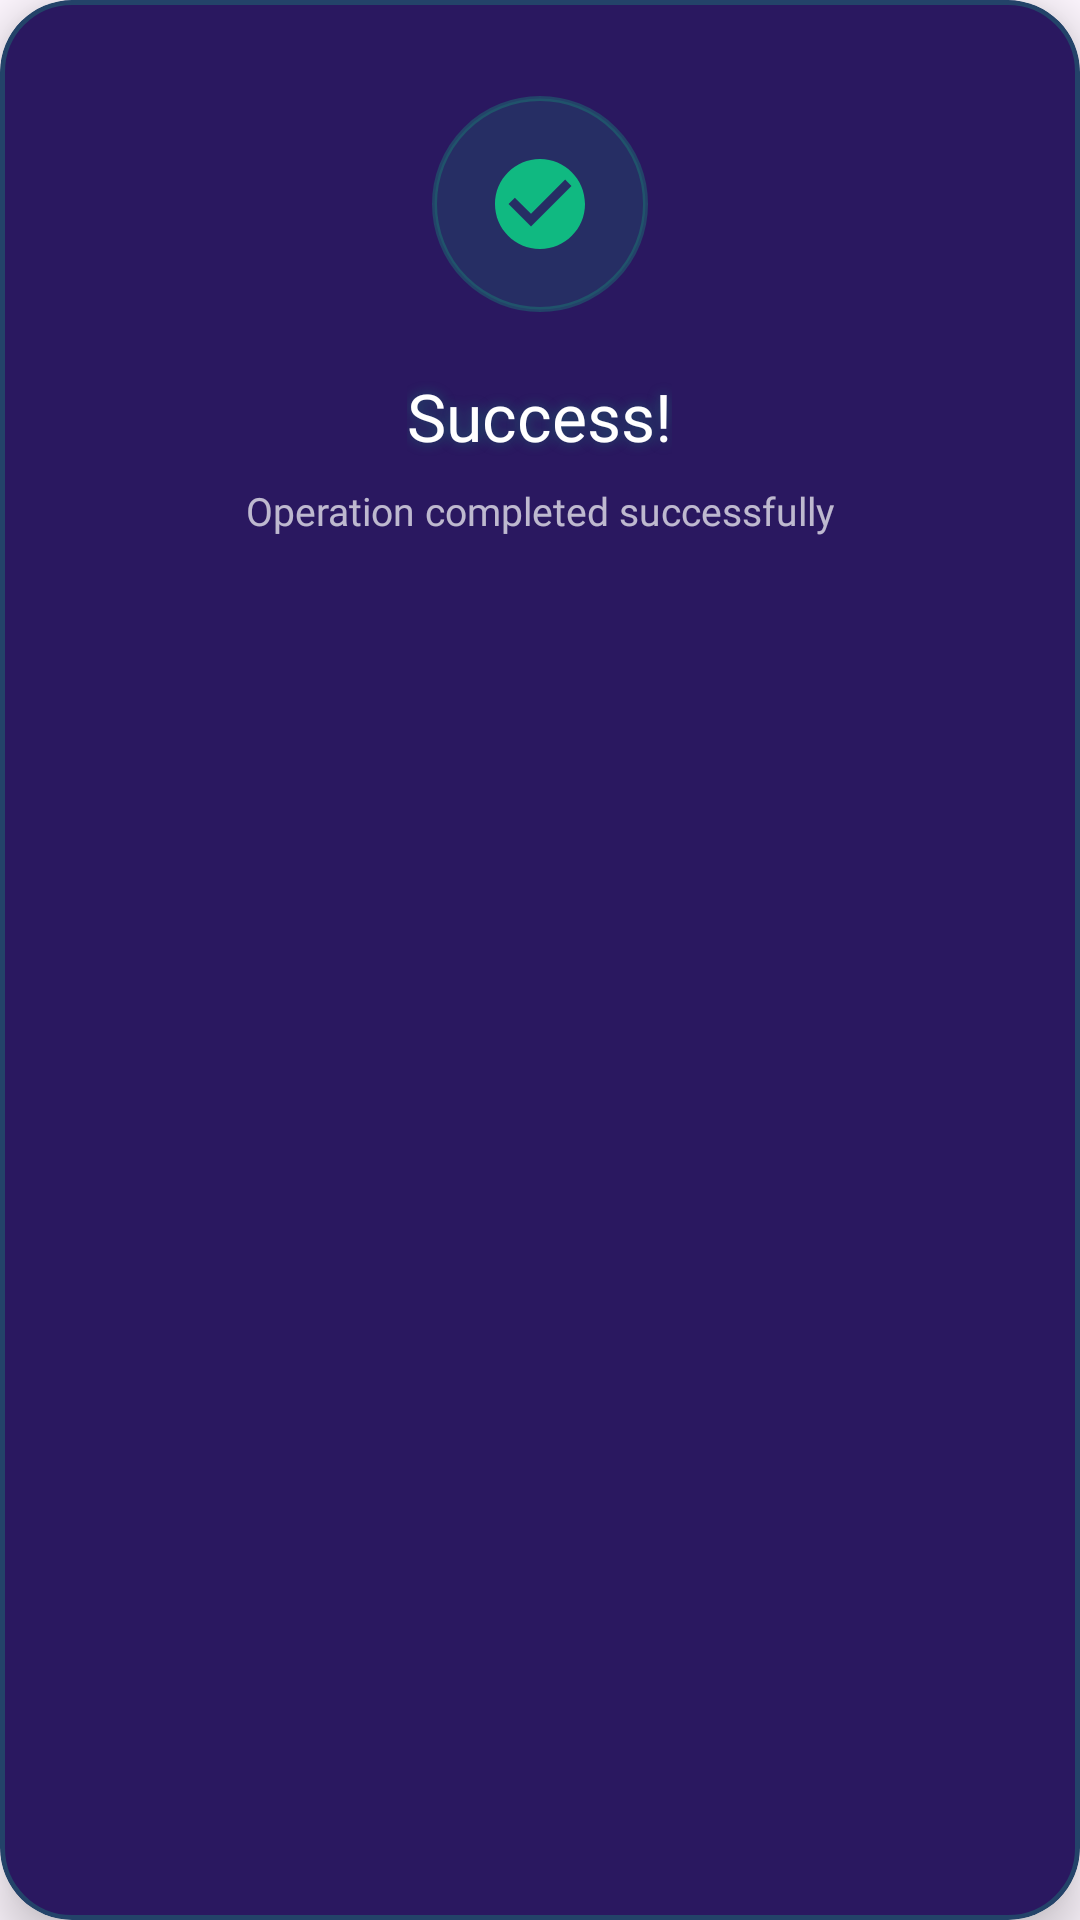

Icons on this 1080 x 1920 Android screen, each with its box as (x1, y1, x2, y2):
check circle: (495, 159, 585, 249)
